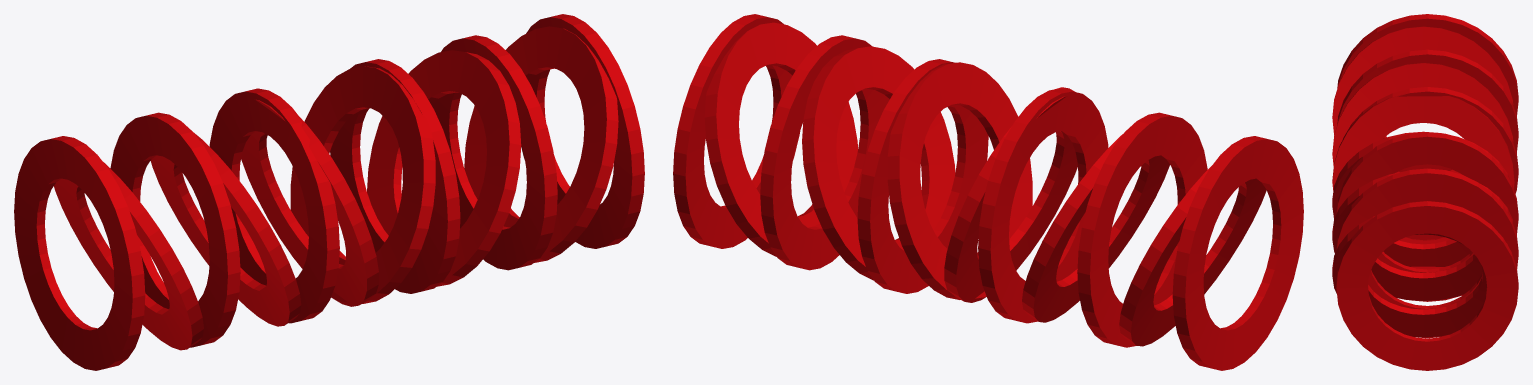
Rendered from eater.fbx.
The picture shows the model from 3 angles, left to right: view 1: azimuth 30°, elevation 25°; view 2: azimuth 150°, elevation 25°; view 3: azimuth 270°, elevation 25°; orthographic projection. The views are drawn at different scales.
Visible parts, largest first — view 1: Cube; view 2: Cube; view 3: Cube.
Part boxes in pixels (x1=…): Cube: x1=14, y1=14, x2=644, y2=370; Cube: x1=673, y1=14, x2=1303, y2=370; Cube: x1=1332, y1=14, x2=1518, y2=370.
Size of the model in its own units: 901 by 362 by 370.
